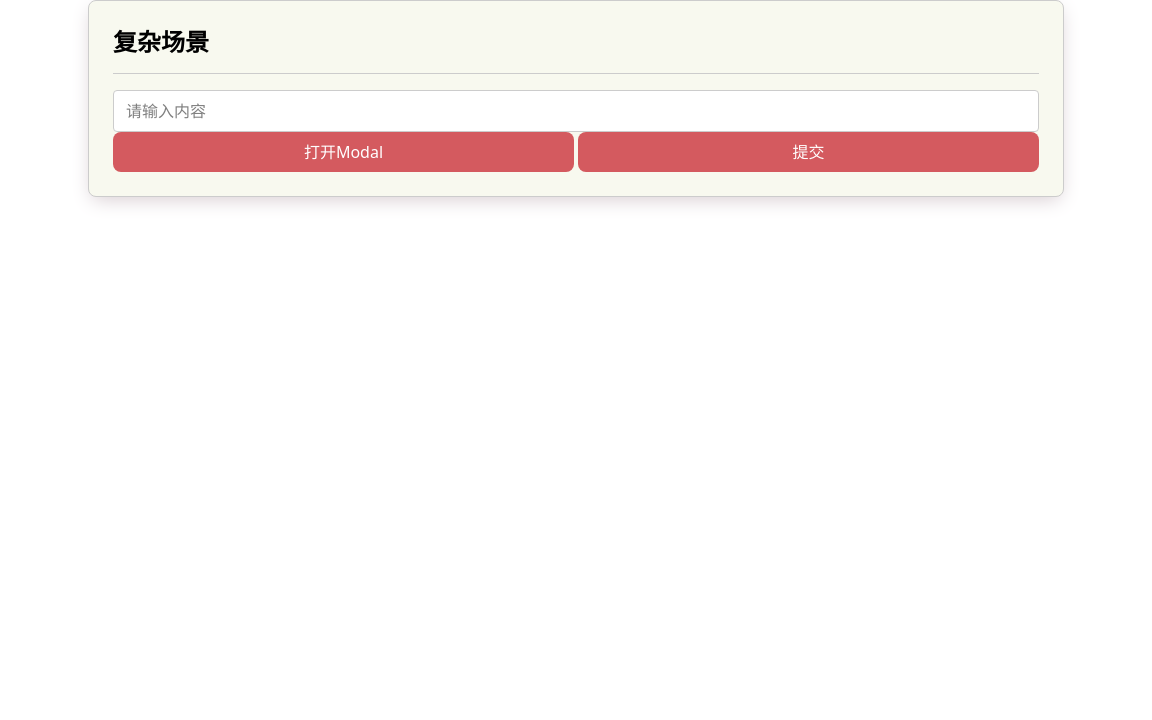
it: 组件集成测试 › 复杂场景集成 › 应该能够集成所有组件
expect the heading "复杂场景" is shown: met, box [113,28,209,57]
expect the field with placeholder "请输入内容" is shown: met, box [113,90,1039,132]
Click the button "打开Modal": (344, 152) [113,132,574,172]
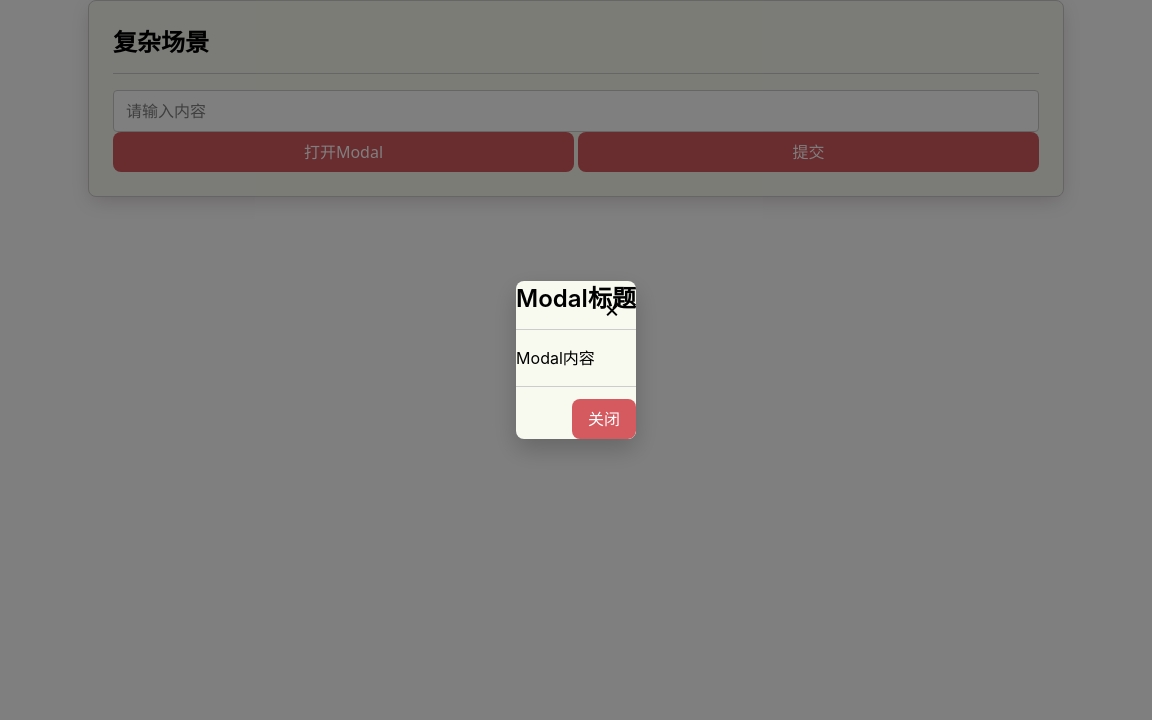
expect the text "Modal内容" is shown: met, box [516,348,595,368]
